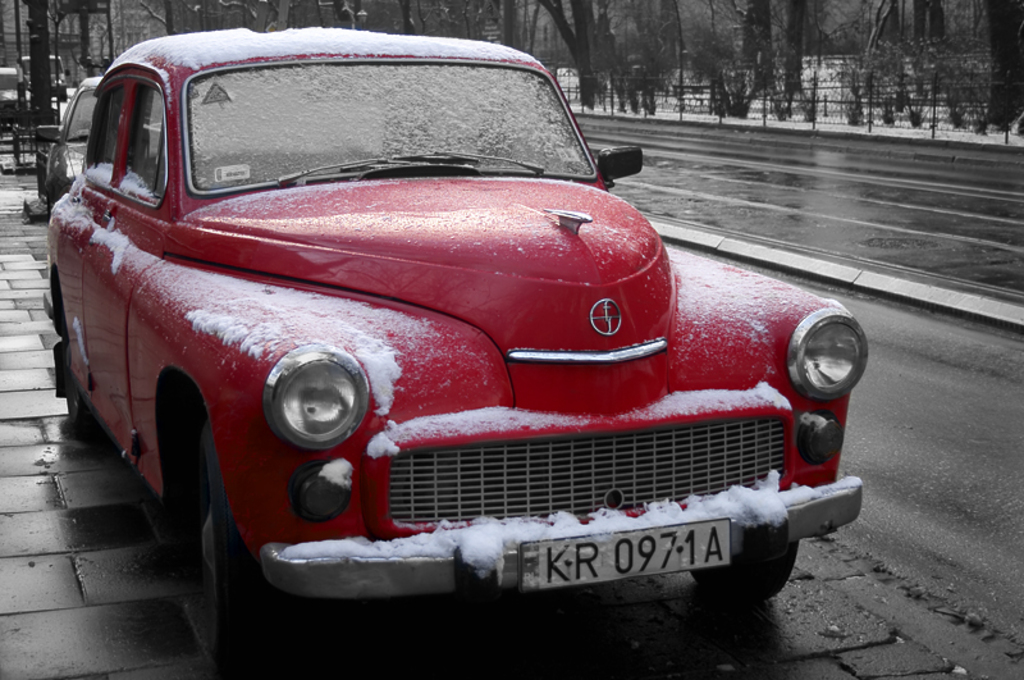Car: (37, 26, 862, 669), (33, 76, 102, 208), (21, 55, 70, 103), (0, 64, 32, 116)
